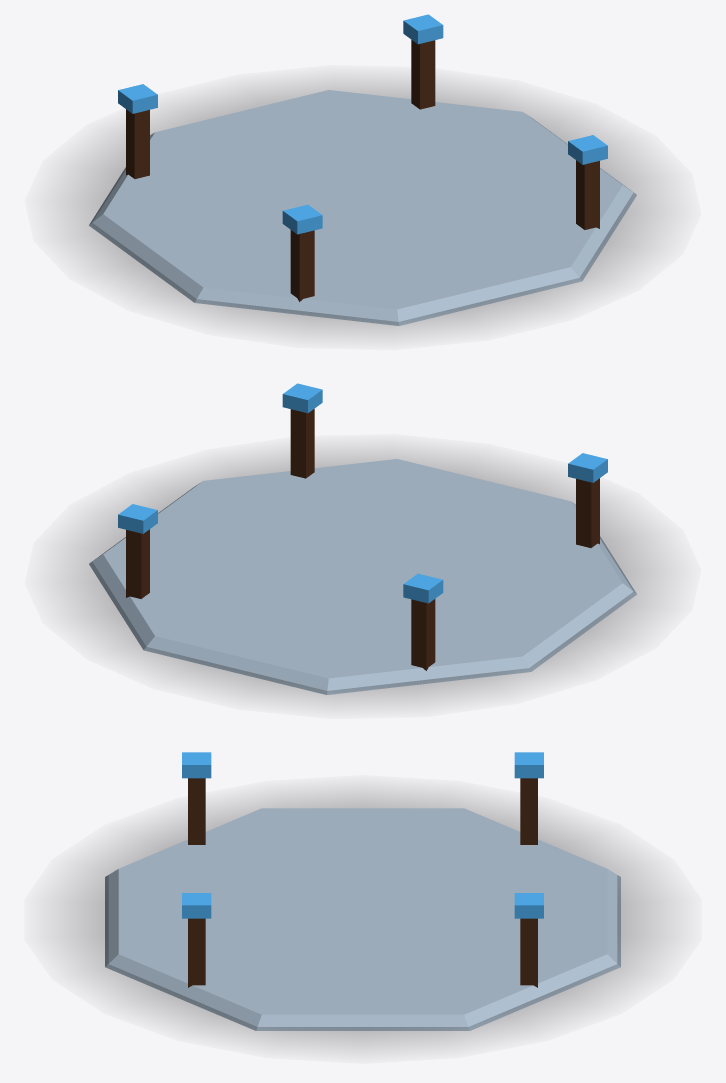
Rendered from plot.glb.
3 renders of one model, top to bottom at view 1: azimuth 30°, elevation 25°; view 2: azimuth 150°, elevation 25°; view 3: azimuth 270°, elevation 25°, orthographic.
Parts seen in each view (by area): view 1: plot; view 2: plot; view 3: plot.
Part boxes in pixels (x1=…): plot: x1=67, y1=14, x2=658, y2=331; plot: x1=67, y1=383, x2=658, y2=700; plot: x1=66, y1=752, x2=659, y2=1045.
Bounding box in the file's own units: 4.8 × 0.7 × 4.75.
